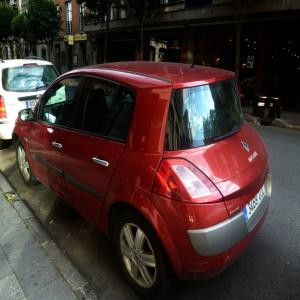Vehicle-registration-plate: (243, 183, 267, 224), (26, 100, 40, 112)
